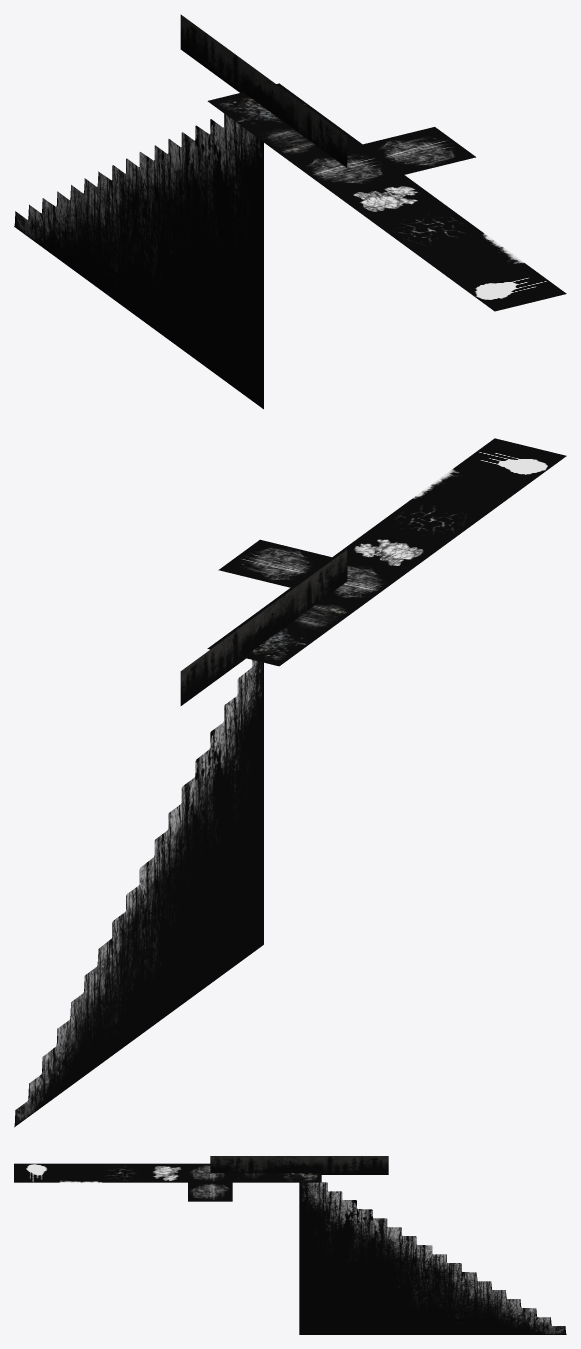
The model's file is flat_decal_master_mesh.fbx.
3 renders of one model, top to bottom at view 1: azimuth 30°, elevation 25°; view 2: azimuth 150°, elevation 25°; view 3: azimuth 270°, elevation 25°, orthographic. The views are drawn at different scales.
Visible parts, largest first — view 1: f_decal_stairs_mesh, f_decal_A_mesh, f_decal_I_mesh, f_decal_F_mesh, f_decal_D_mesh, f_decal_H_mesh, f_decal_E_mesh, f_decal_G_mesh, f_decal_C_mesh, f_decal_B_mesh; view 2: f_decal_stairs_mesh, f_decal_A_mesh, f_decal_I_mesh, f_decal_D_mesh, f_decal_H_mesh, f_decal_F_mesh, f_decal_G_mesh, f_decal_E_mesh, f_decal_C_mesh, f_decal_B_mesh; view 3: f_decal_stairs_mesh, f_decal_A_mesh, f_decal_H_mesh, f_decal_I_mesh, f_decal_F_mesh, f_decal_D_mesh, f_decal_G_mesh, f_decal_E_mesh, f_decal_C_mesh, f_decal_B_mesh.
Part boxes in pixels (left/top/right/bottom): f_decal_stairs_mesh: left=14, top=113, right=263, bottom=409; f_decal_A_mesh: left=180, top=14, right=347, bottom=167; f_decal_I_mesh: left=453, top=263, right=566, bottom=311; f_decal_F_mesh: left=332, top=175, right=445, bottom=222; f_decal_D_mesh: left=363, top=127, right=475, bottom=174; f_decal_H_mesh: left=412, top=233, right=524, bottom=280; f_decal_E_mesh: left=291, top=144, right=403, bottom=192; f_decal_G_mesh: left=374, top=205, right=483, bottom=252; f_decal_C_mesh: left=249, top=114, right=362, bottom=161; f_decal_B_mesh: left=207, top=83, right=320, bottom=131; f_decal_stairs_mesh: left=14, top=660, right=263, bottom=1127; f_decal_A_mesh: left=180, top=549, right=347, bottom=705; f_decal_I_mesh: left=453, top=438, right=566, bottom=486; f_decal_D_mesh: left=218, top=539, right=331, bottom=587; f_decal_H_mesh: left=412, top=469, right=524, bottom=516; f_decal_F_mesh: left=332, top=527, right=445, bottom=574; f_decal_G_mesh: left=374, top=497, right=486, bottom=544; f_decal_E_mesh: left=291, top=557, right=403, bottom=605; f_decal_C_mesh: left=249, top=588, right=362, bottom=635; f_decal_B_mesh: left=207, top=618, right=320, bottom=666; f_decal_stairs_mesh: left=299, top=1182, right=566, bottom=1334; f_decal_A_mesh: left=210, top=1156, right=388, bottom=1174; f_decal_H_mesh: left=58, top=1163, right=103, bottom=1182; f_decal_I_mesh: left=14, top=1163, right=58, bottom=1182; f_decal_F_mesh: left=143, top=1163, right=187, bottom=1182; f_decal_D_mesh: left=188, top=1182, right=232, bottom=1201; f_decal_G_mesh: left=98, top=1163, right=143, bottom=1182; f_decal_E_mesh: left=188, top=1163, right=232, bottom=1182; f_decal_C_mesh: left=232, top=1173, right=276, bottom=1182; f_decal_B_mesh: left=277, top=1173, right=321, bottom=1182.
Bounding box in the file's own units: 200 × 443 × 1240.
